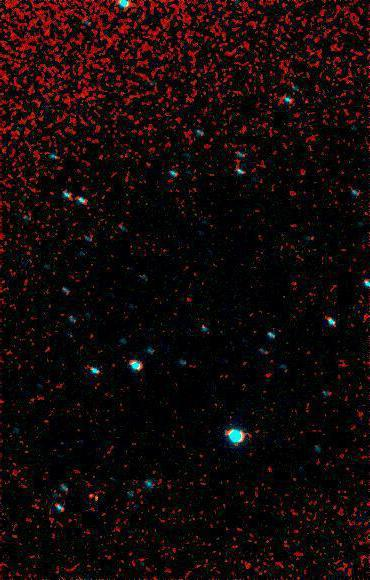star: (78, 480, 108, 510)
